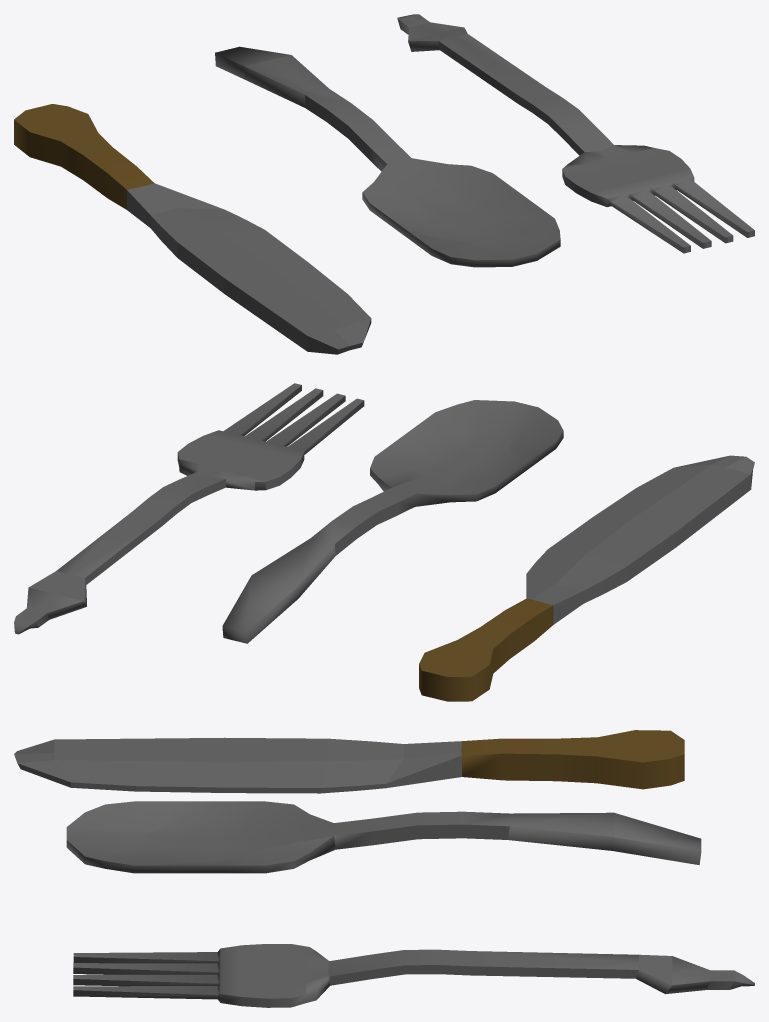
File: ButterKnife_01.fbx
3 renders of one model, top to bottom at view 1: azimuth 30°, elevation 25°; view 2: azimuth 150°, elevation 25°; view 3: azimuth 270°, elevation 25°, orthographic. The views are drawn at different scales.
Parts seen in each view (by area): view 1: Empty_Mesh, Empty_Mesh_1; view 2: Empty_Mesh, Empty_Mesh_1; view 3: Empty_Mesh, Empty_Mesh_1.
Part boxes in pixels (<box>): Empty_Mesh: <box>215,14,754,267</box>; Empty_Mesh_1: <box>14,104,371,354</box>; Empty_Mesh: <box>14,383,563,643</box>; Empty_Mesh_1: <box>419,455,754,701</box>; Empty_Mesh: <box>66,801,754,1007</box>; Empty_Mesh_1: <box>14,730,684,793</box>.
Size of the model in its own units: 64.2 by 7.74 by 80.56.
